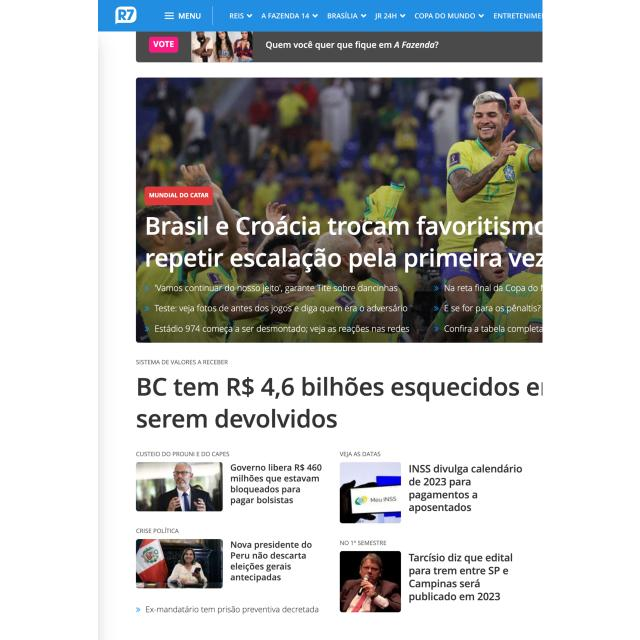logo: (113, 2, 140, 26)
navigation: (222, 8, 544, 27), (157, 6, 203, 24)
